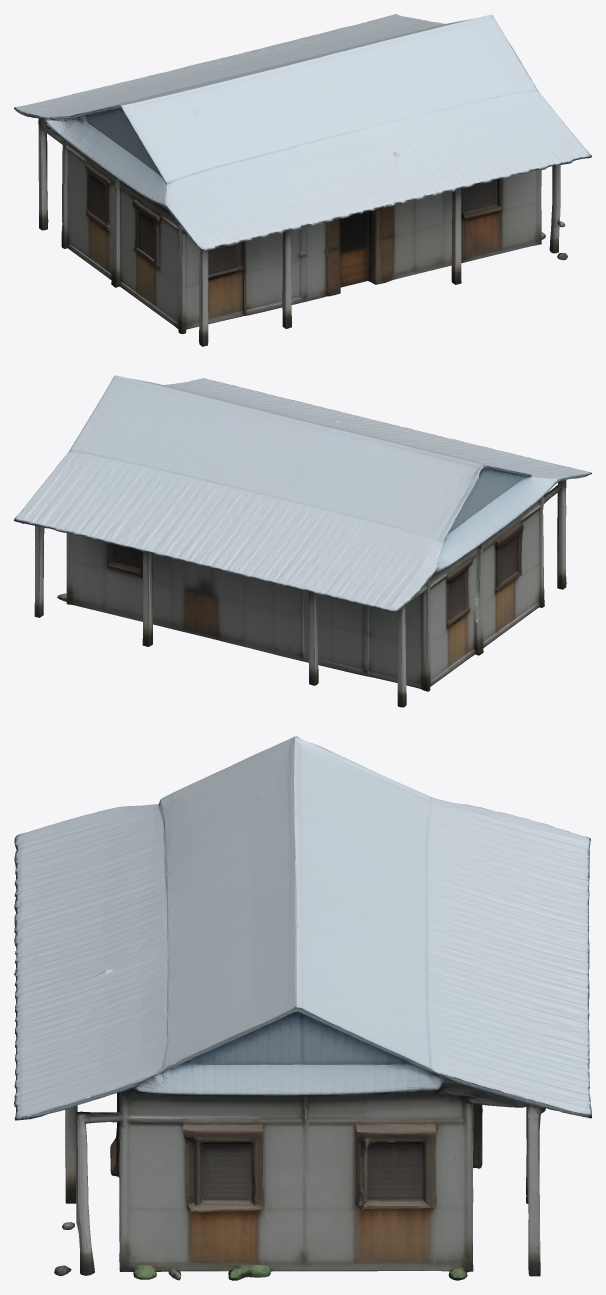
3 views of the same model, one above another, from view 1: azimuth 30°, elevation 25°; view 2: azimuth 150°, elevation 25°; view 3: azimuth 270°, elevation 25° (orthographic). The views are drawn at different scales.
Parts seen in each view (by area): view 1: world; view 2: world; view 3: world.
Boxes of the visible parts, left/top/right/bottom form: world: left=14, top=14, right=591, bottom=346; world: left=14, top=375, right=591, bottom=707; world: left=14, top=736, right=591, bottom=1280.
Bounding box in the file's own units: 0.9963 × 0.4508 × 0.8525.
1 material, 1 textured.
